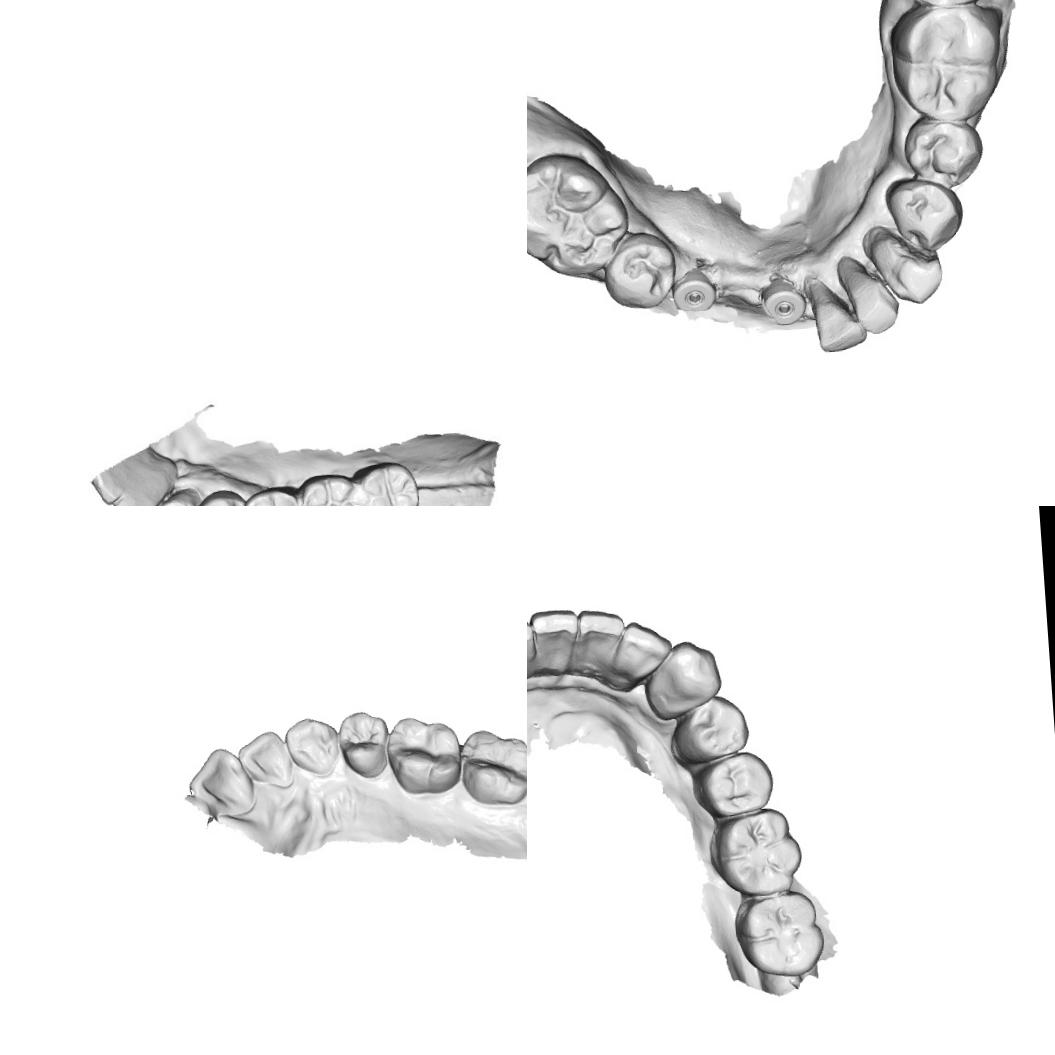canine: (867, 228, 947, 307), (647, 636, 726, 713), (282, 713, 342, 781)
implant: (671, 270, 721, 318), (763, 282, 806, 326)
incisor: (184, 744, 258, 820), (843, 268, 902, 337), (235, 727, 296, 790), (528, 609, 584, 677), (810, 290, 869, 354), (614, 618, 668, 687), (572, 606, 621, 680), (88, 465, 126, 506), (111, 487, 160, 506)
molar: (884, 0, 1005, 126), (527, 146, 634, 283), (708, 803, 808, 898), (728, 890, 827, 982), (381, 710, 464, 799), (455, 724, 527, 807), (348, 457, 422, 506), (293, 468, 365, 506)
premolar: (880, 172, 967, 255), (899, 114, 986, 190), (689, 747, 774, 820), (604, 232, 678, 312), (672, 690, 751, 764), (336, 708, 390, 782), (242, 485, 306, 506), (186, 488, 253, 506)
